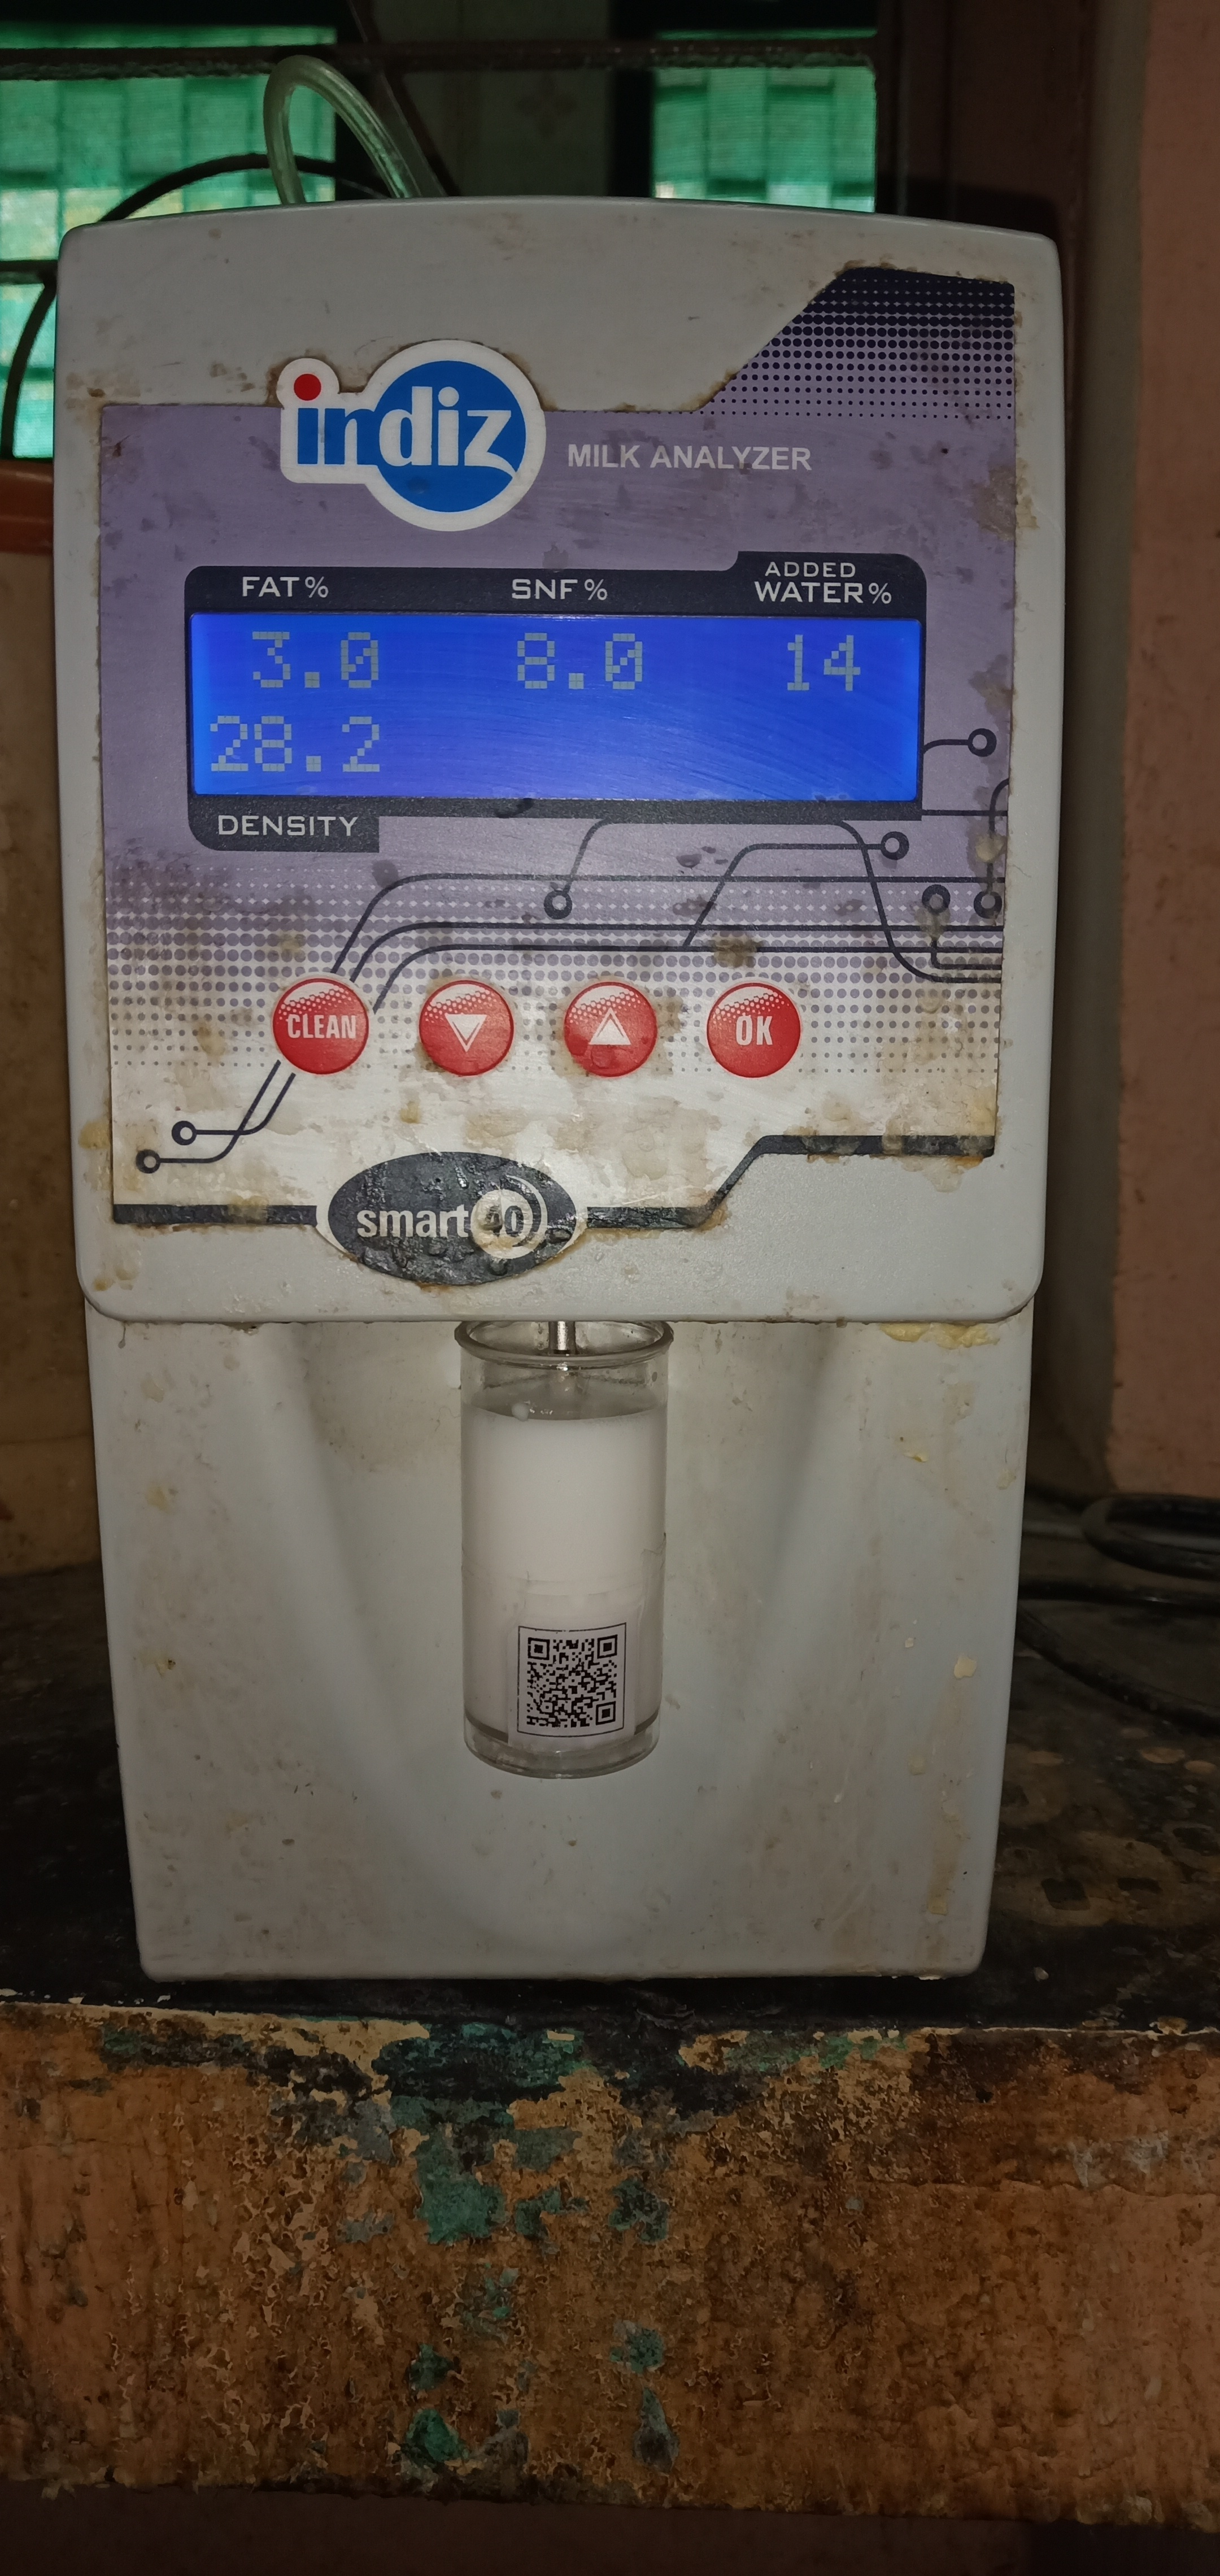lcd: (164, 524, 934, 881)
qr: (511, 1610, 649, 1748)
